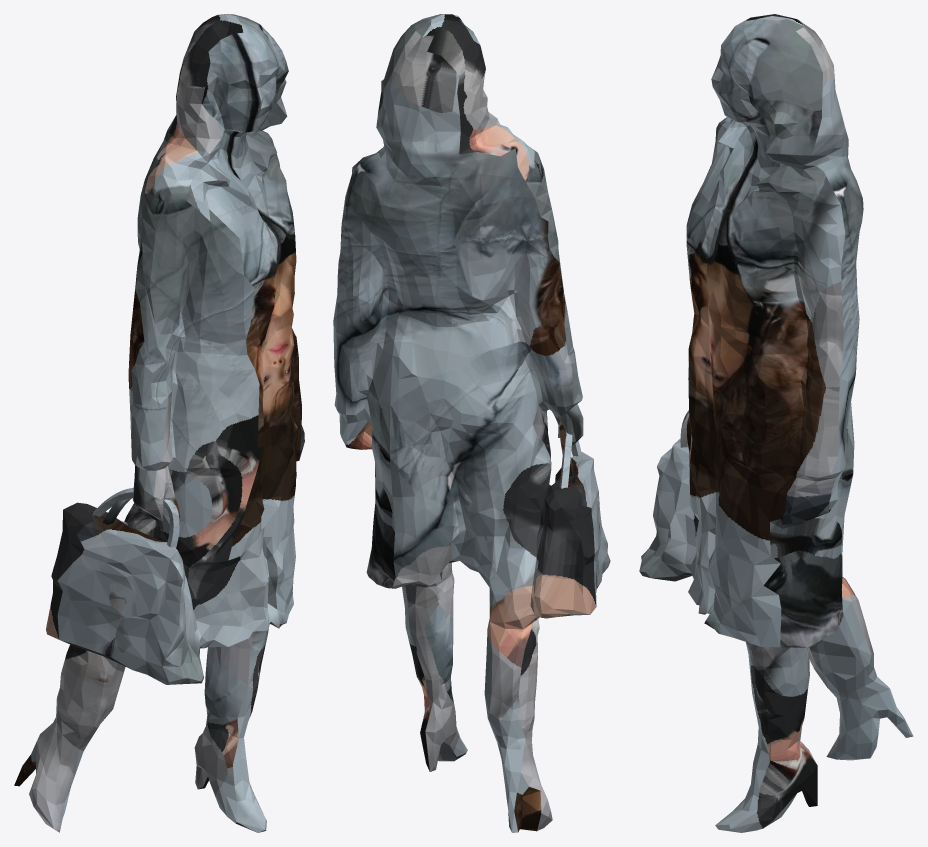
Rendered from girl_10.glb.
The picture shows the model from 3 angles, left to right: view 1: azimuth 30°, elevation 25°; view 2: azimuth 150°, elevation 25°; view 3: azimuth 270°, elevation 25°; orthographic projection. The views are drawn at different scales.
Visible parts, largest first — view 1: girl_10; view 2: girl_10; view 3: girl_10.
Part boxes in pixels (box(x1,y1,x2,y2)): girl_10: box(14, 14, 304, 832); girl_10: box(333, 14, 610, 832); girl_10: box(639, 14, 913, 832).
Bounding box in the file's own units: 0.5526 × 1.65 × 0.504.
Materials: 1 (1 with a texture image).
